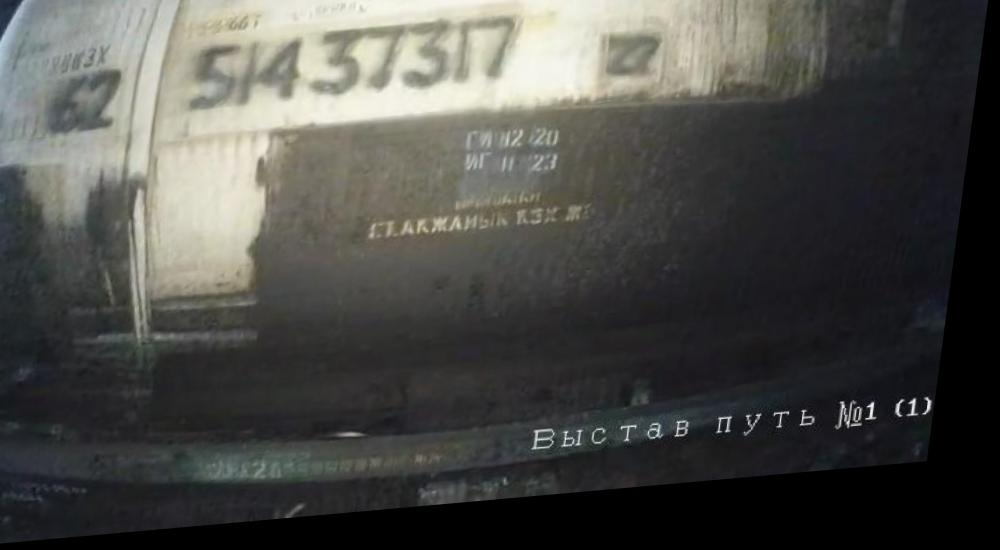Wagon-number: (176, 17, 531, 119)
